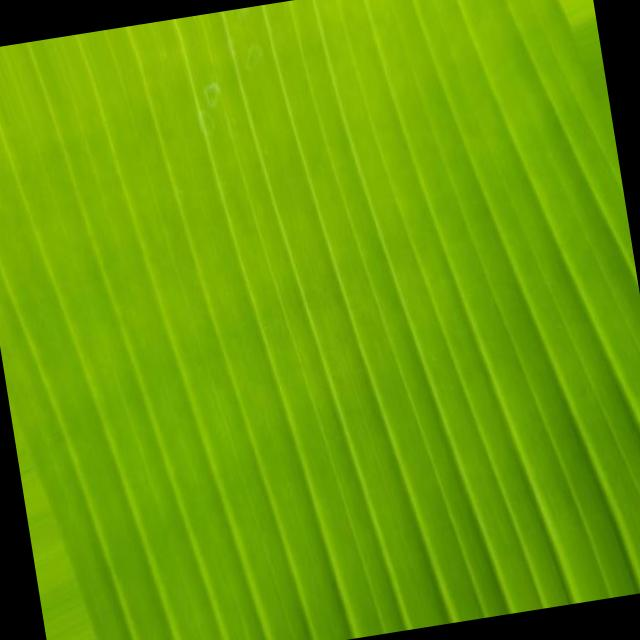Banana_Healthy: (49, 77, 584, 604)
